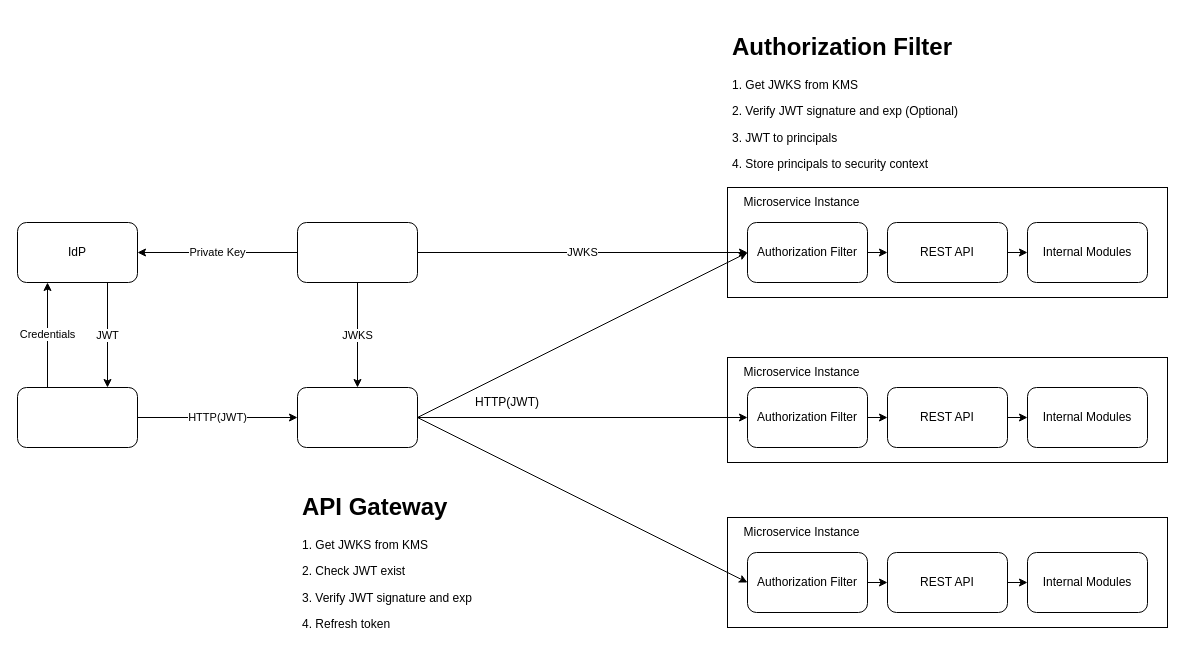
The diagram is 1185 pixels wide and 654 high, and some of its shapes have lost their labels. The shapes that lost their labels are listed below. From the top down, each one's box as (x1, y1, x2, y2) in pixels, then its label:
(296, 222, 418, 282): KMS
(16, 386, 138, 448): Client
(296, 386, 418, 448): API Gateway
